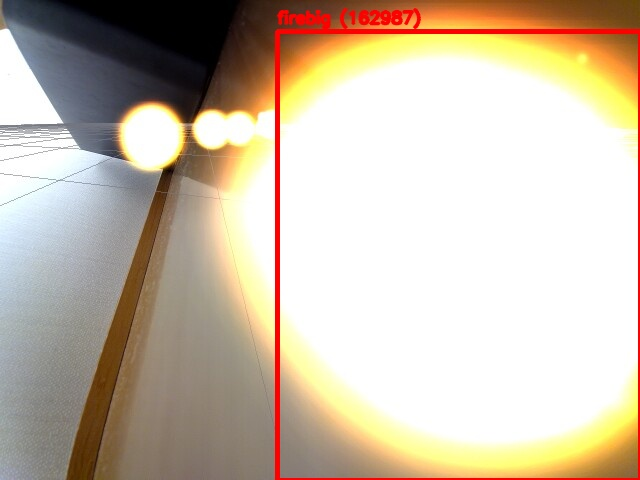firebig: (277, 31, 640, 480)
